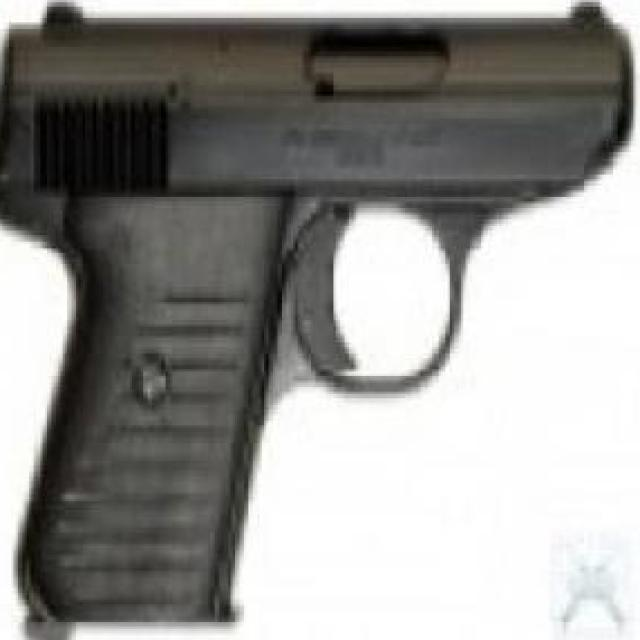pistol: (4, 24, 633, 640)
